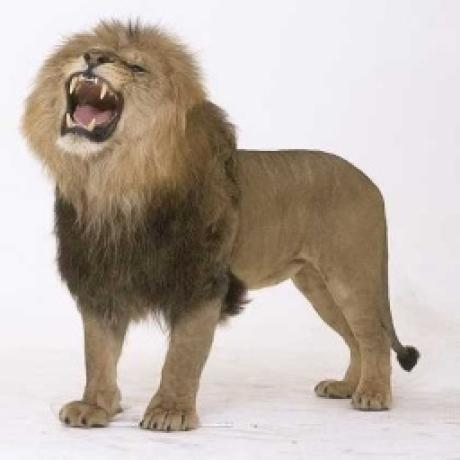Lion: (20, 10, 425, 435)
